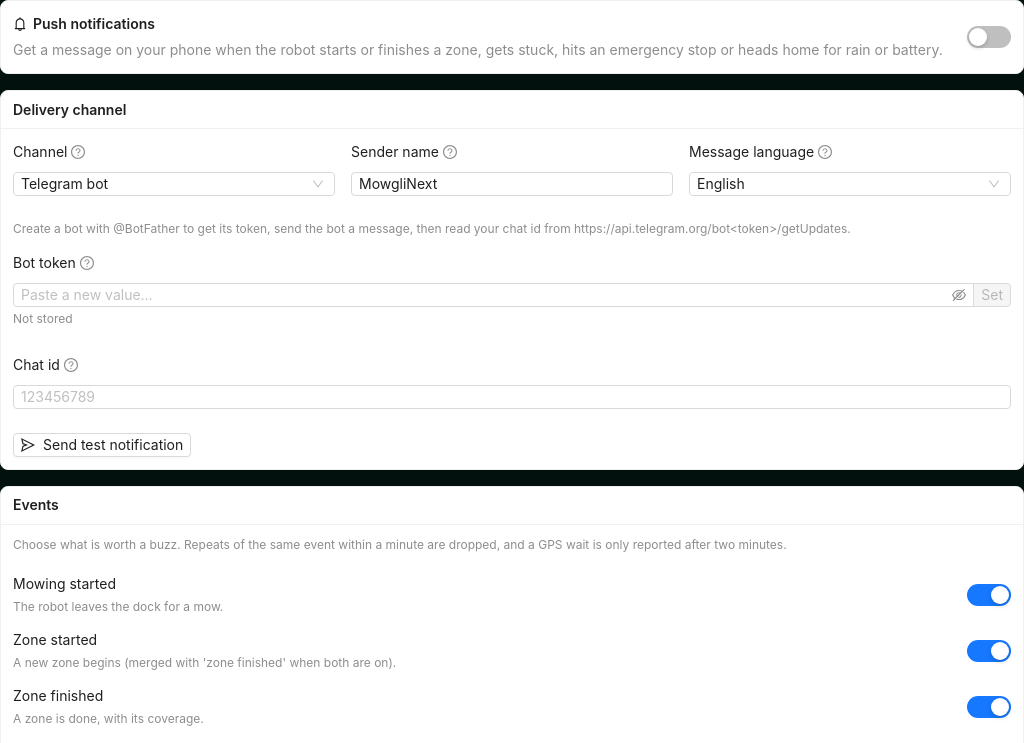
NotificationsSection › switching to Pushover shows its fields and hides the Telegram ones
The width and height of the screenshot is (1024, 743).
Click the dropdown named "Channel": click(65, 184) [21,175,108,192]
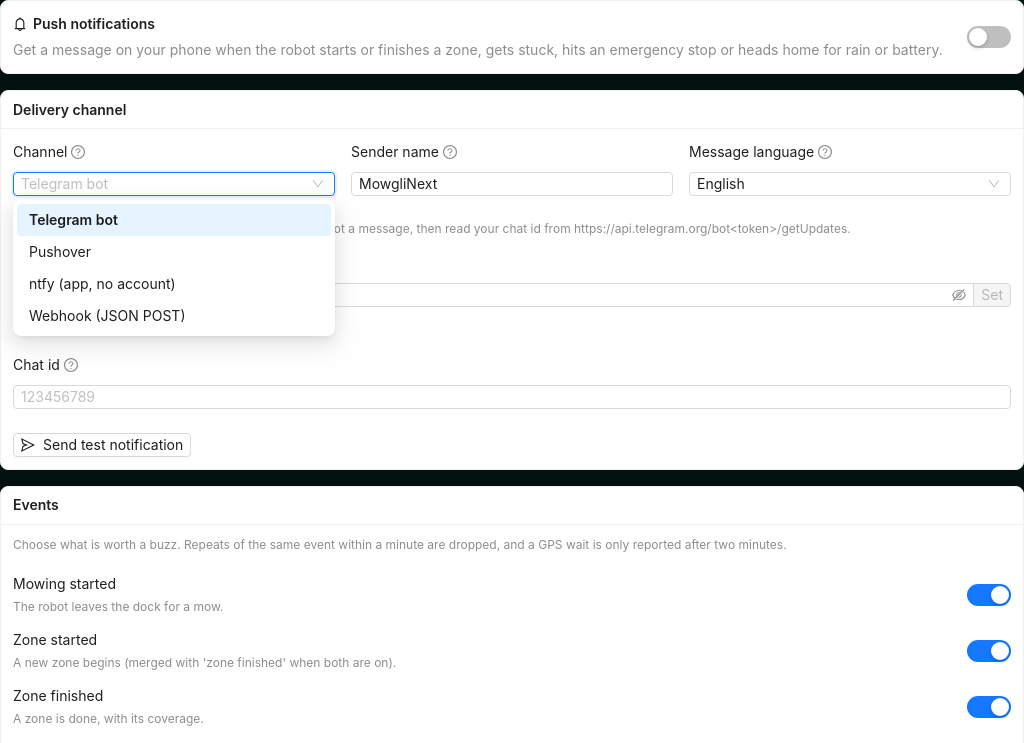
Click the text "Pushover": click(60, 252) [29,243,91,260]
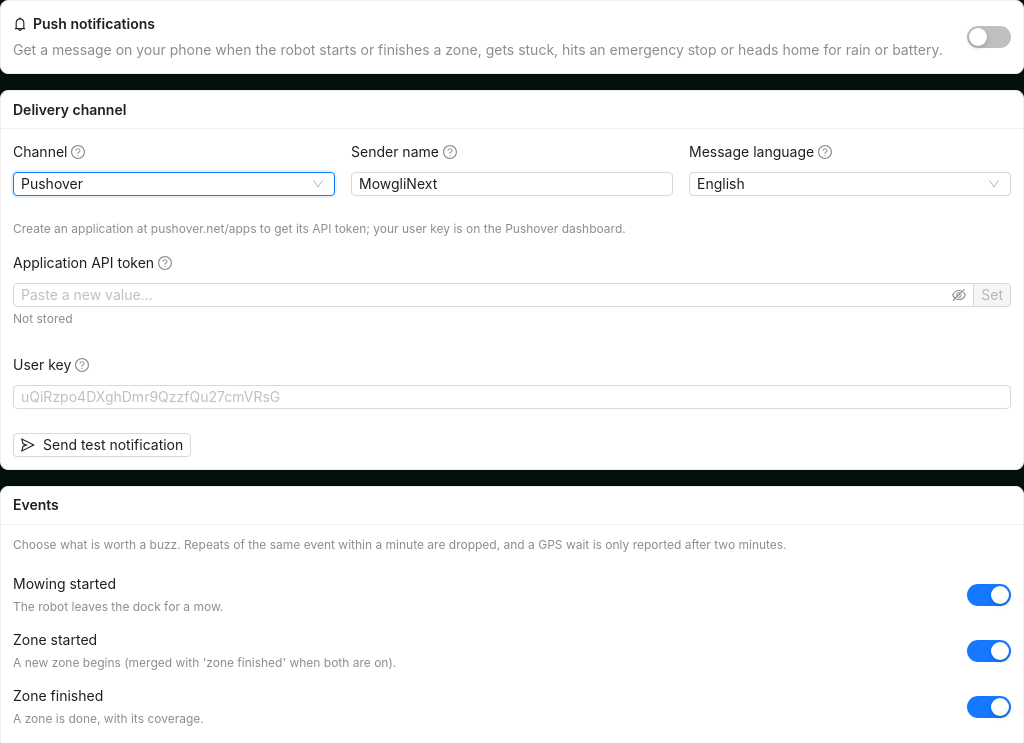
Expected: the password field named "Application API token" is shown, [21,284,948,306]
Expected: the field named "User key" is shown, [13,385,1011,409]
Expected: the label labelled "Bot token" is gone
